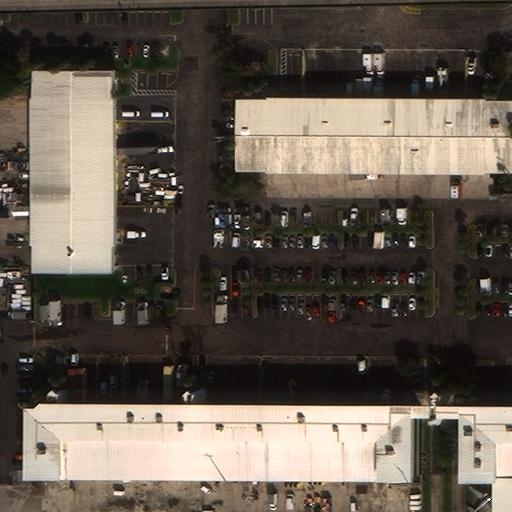Small Civil Transport: (470, 485, 498, 512)
